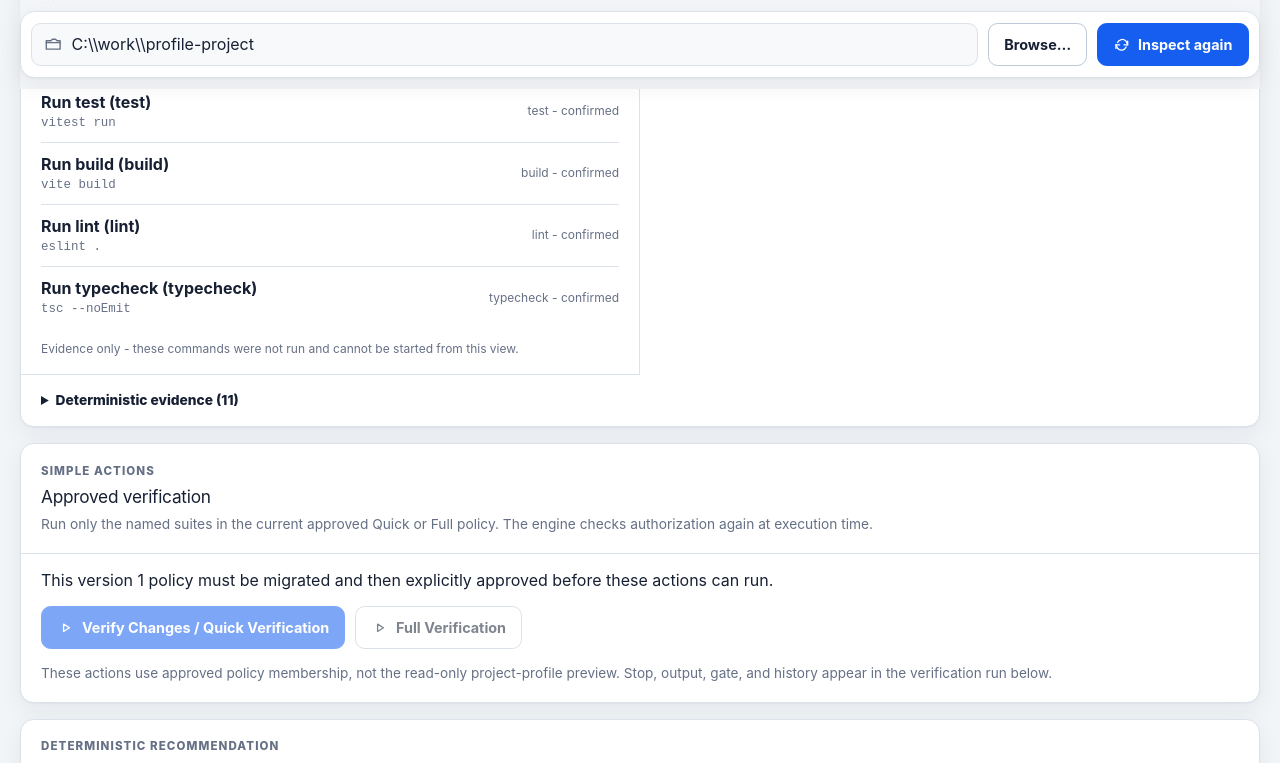
Scenario: desktop dashboard › automatically renders deterministic project facts, candidates, and evidence
(page scrolled)
expect the heading "Observed command candidates" is shown: met, box [41,50,258,66]
expect the text "vitest run" is shown: met, box [41,116,116,130]
Click the heading "Deterministic evidence (11)" at (147, 400), box [56,392,239,408]
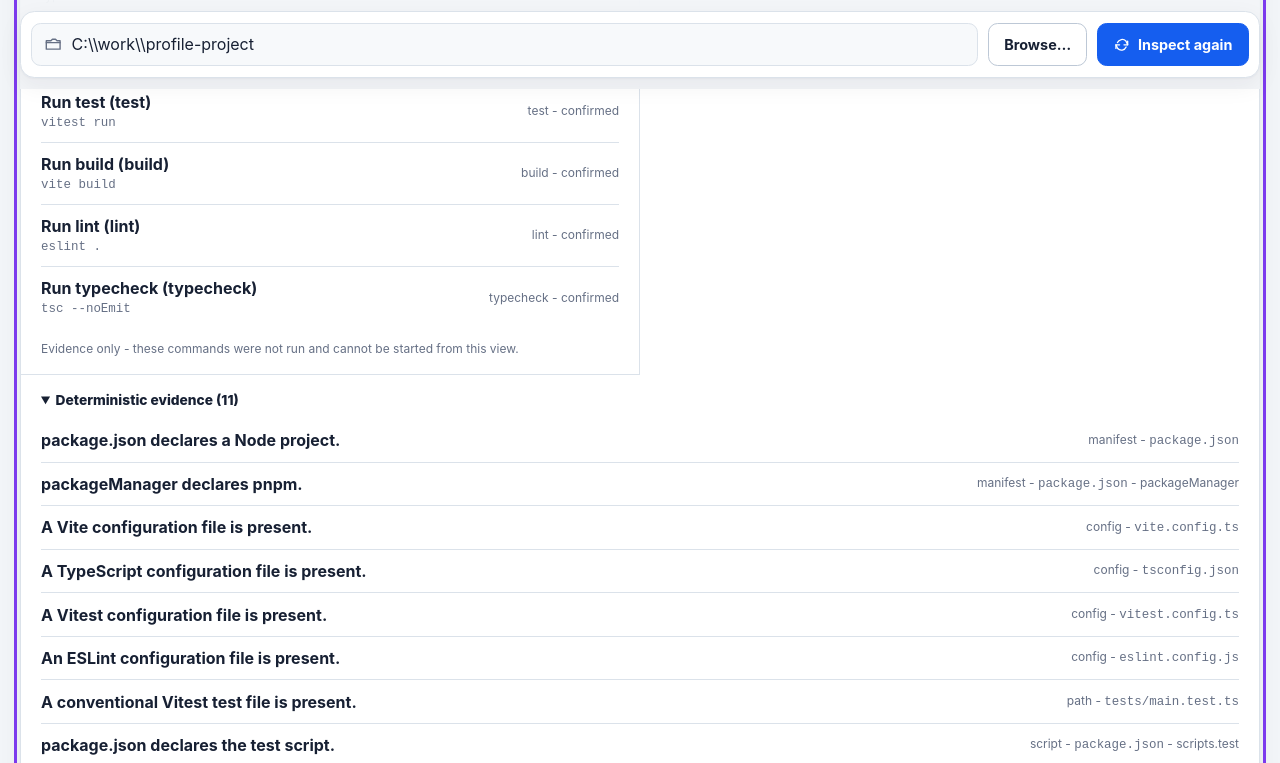
expect the text "A Vite configuration file is present." is shown: met, box [41,516,312,540]
